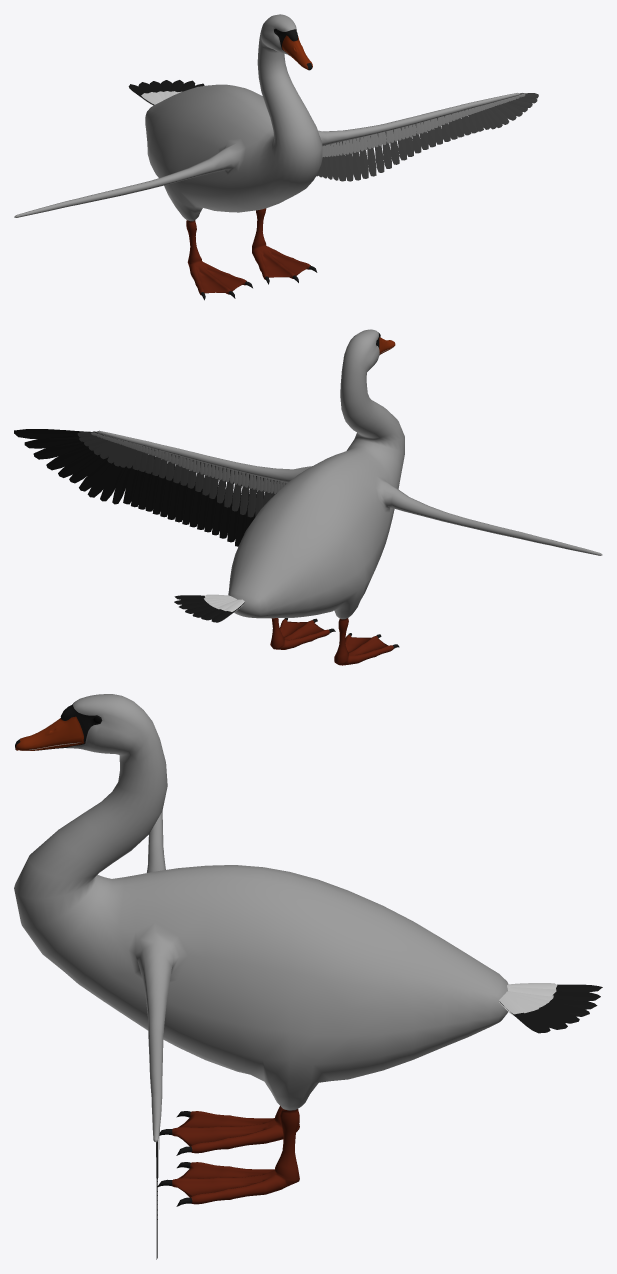
File: swan.obj
The picture shows the model from 3 angles, top to bottom: view 1: azimuth 30°, elevation 25°; view 2: azimuth 150°, elevation 25°; view 3: azimuth 270°, elevation 25°; orthographic projection. The views are drawn at different scales.
Parts seen in each view (by area): view 1: swan; view 2: swan, feather_flight_primary_036, feather_flight_primary_034, feather_flight_primary_033, feather_flight_primary_035; view 3: swan.
Boxes of the visible parts, x1,y1,x2,y2 form: swan: (14, 14, 520, 300); swan: (97, 329, 602, 665); feather_flight_primary_036: (14, 429, 101, 439); feather_flight_primary_034: (33, 440, 88, 459); feather_flight_primary_033: (46, 445, 93, 470); feather_flight_primary_035: (24, 434, 103, 448); swan: (14, 694, 508, 1206).
Bounding box in the file's own units: 2.37 × 1.1 × 1.26.
